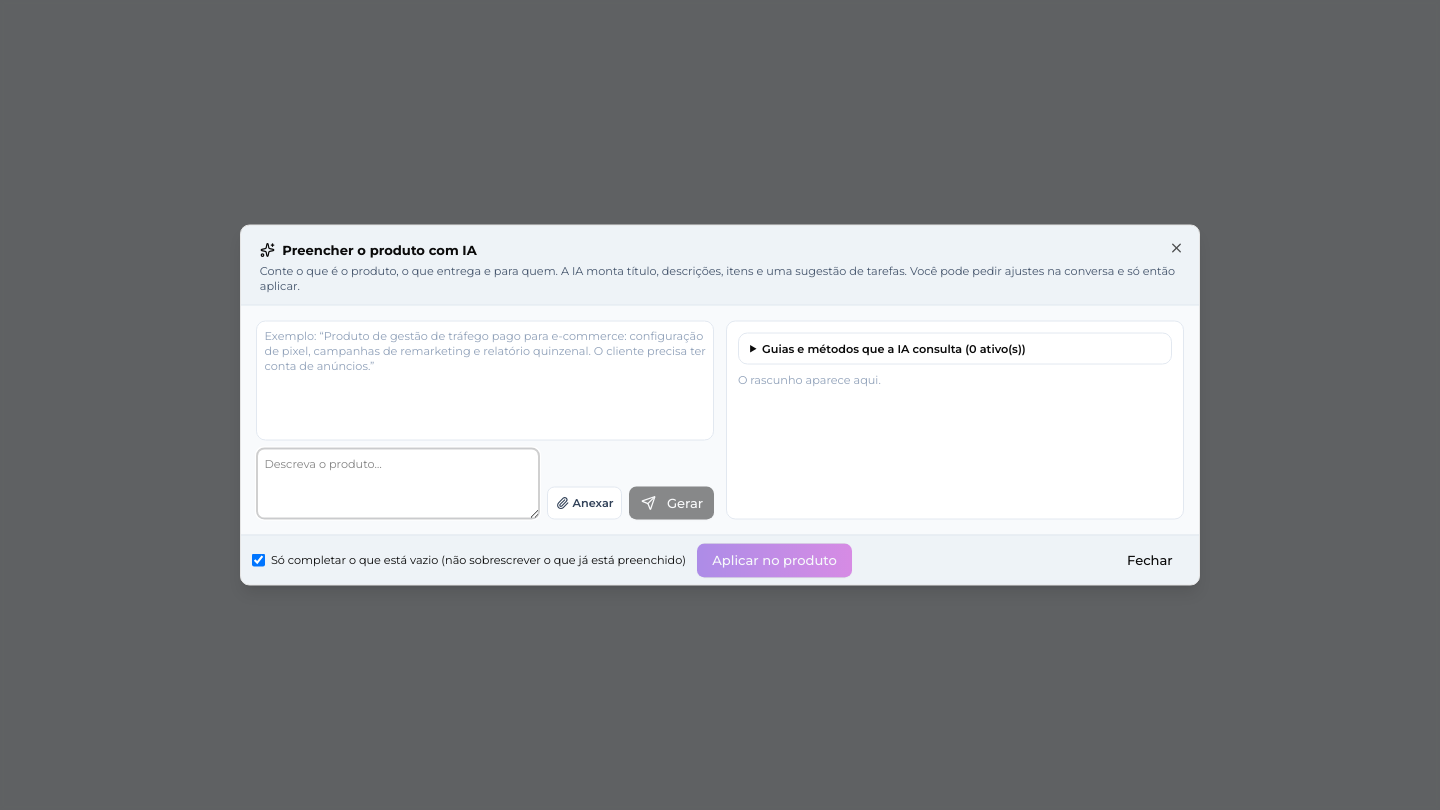
Test: IA que preenche o produto (P-8) › conversa: gera o rascunho, mostra a prévia, manda o rascunho atual no ajuste e só aplica ao clicar
Check: the button with test id "apply-draft" is disabled, box top-left (697, 543), bottom-right (852, 577)
Type "Produto de social media com relatório" into the text box named "Mensagem para a IA" at (398,484), box top-left (256, 448), bottom-right (540, 520)
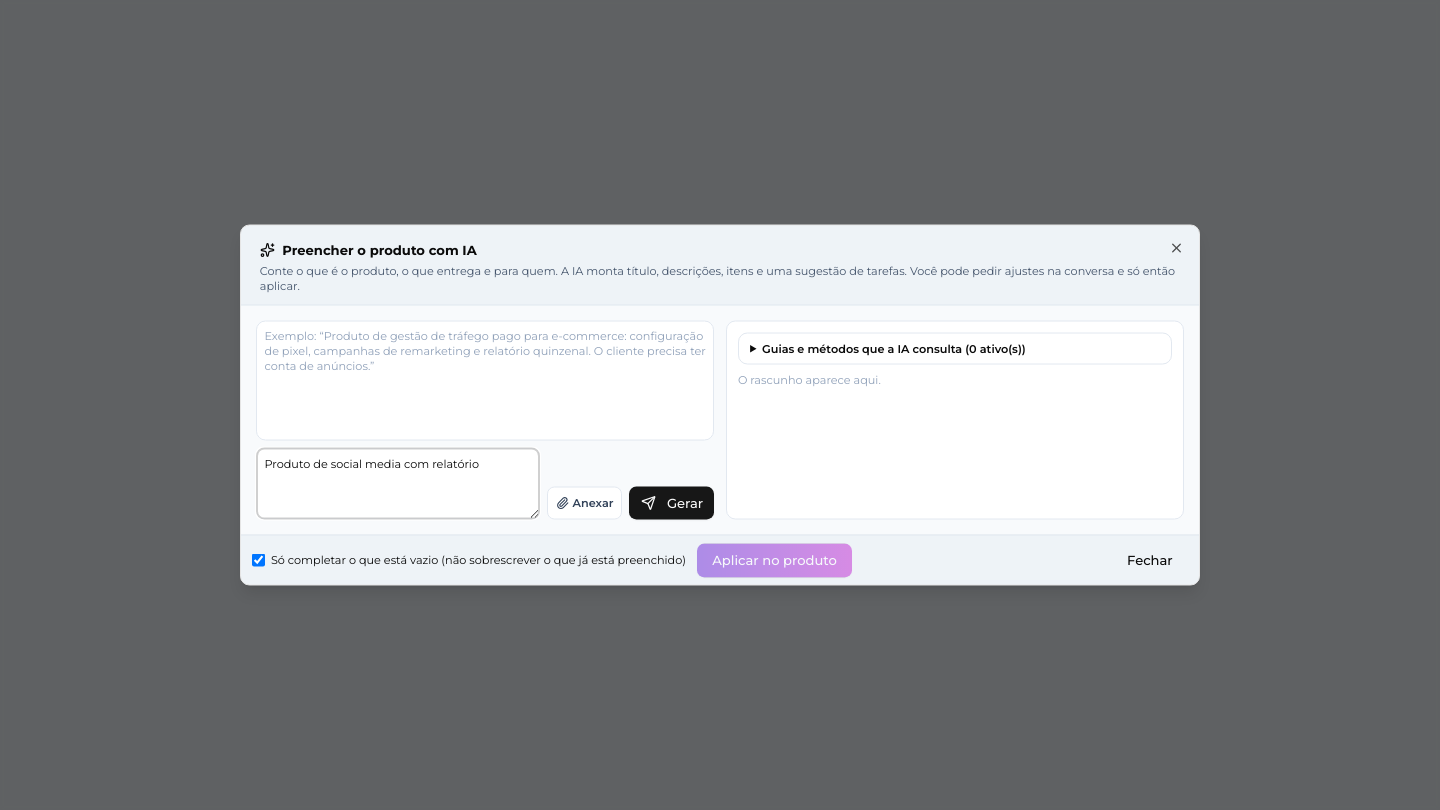
Click the button "Gerar" at (672,503), box top-left (630, 486), bottom-right (714, 520)
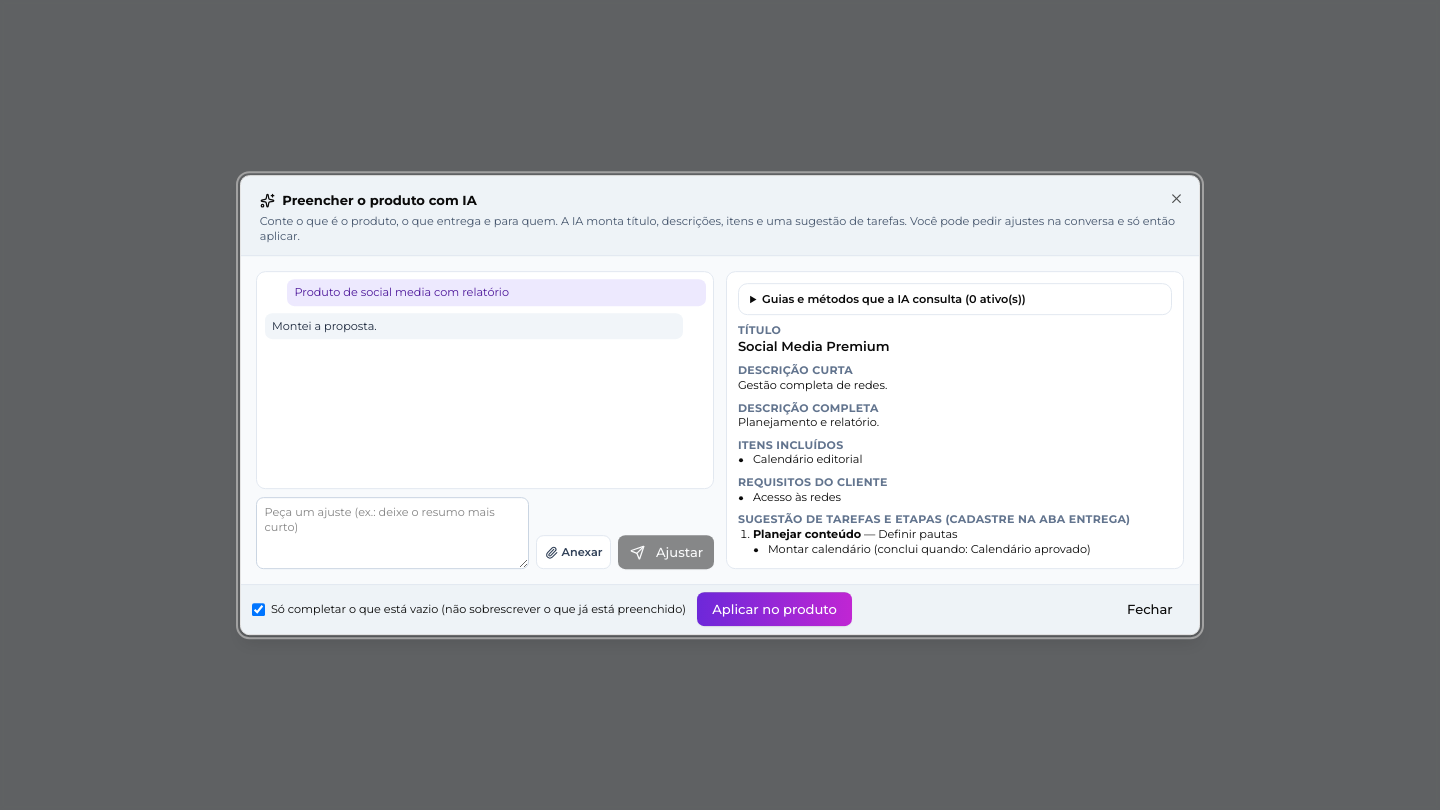
Check: the list item "Montei a proposta." is shown, box top-left (264, 313), bottom-right (683, 340)
Check: the element with test id "draft-preview" shows "Social Media Premium", box top-left (738, 338), bottom-right (890, 354)
Check: the element with test id "draft-preview" shows "Montar calendário", box top-left (768, 542), bottom-right (871, 556)
Type "Deixe o resumo mais curto" into the text box named "Mensagem para a IA" at (392,533), box top-left (256, 497), bottom-right (529, 569)
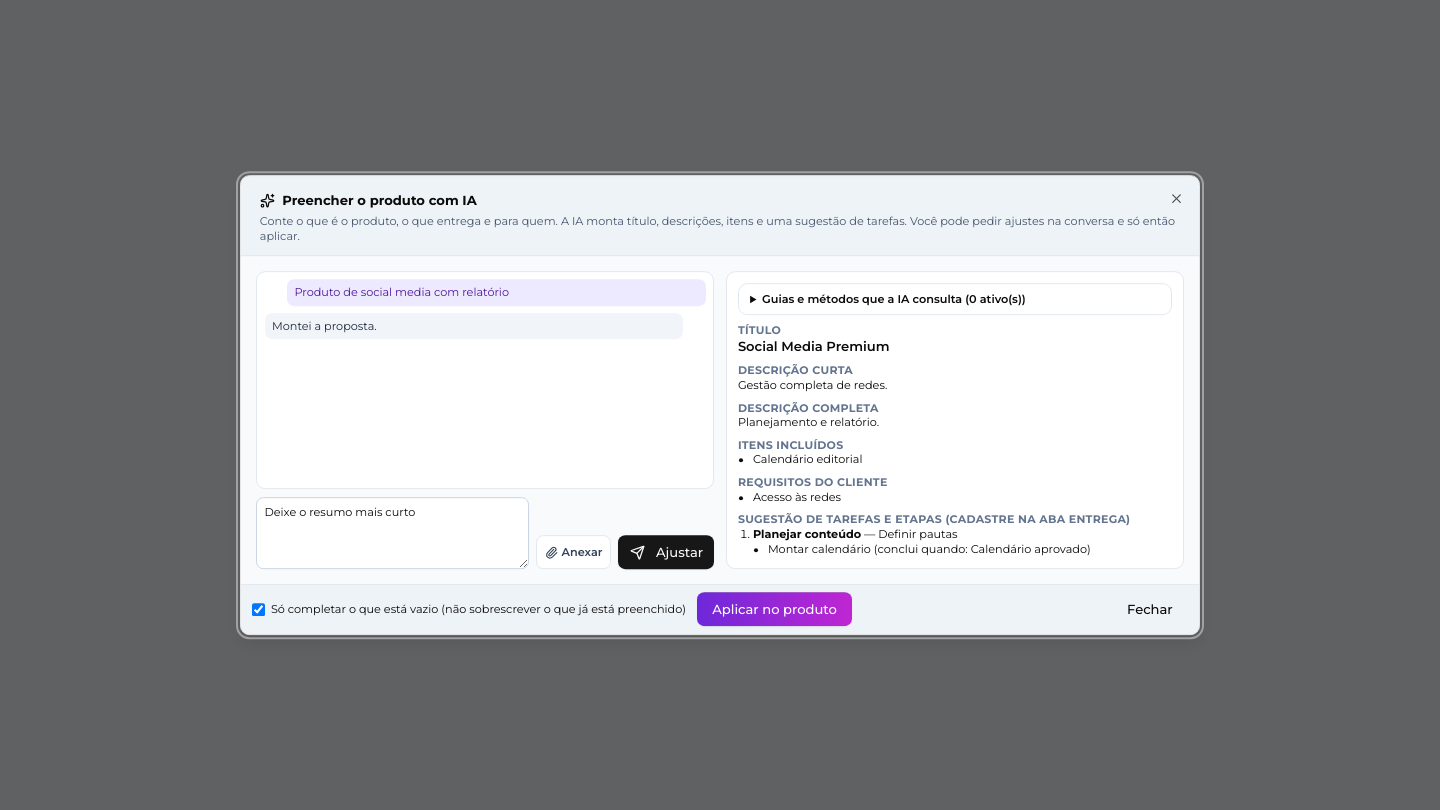
Click the button "Ajustar" at (666,552), box top-left (618, 535), bottom-right (714, 569)
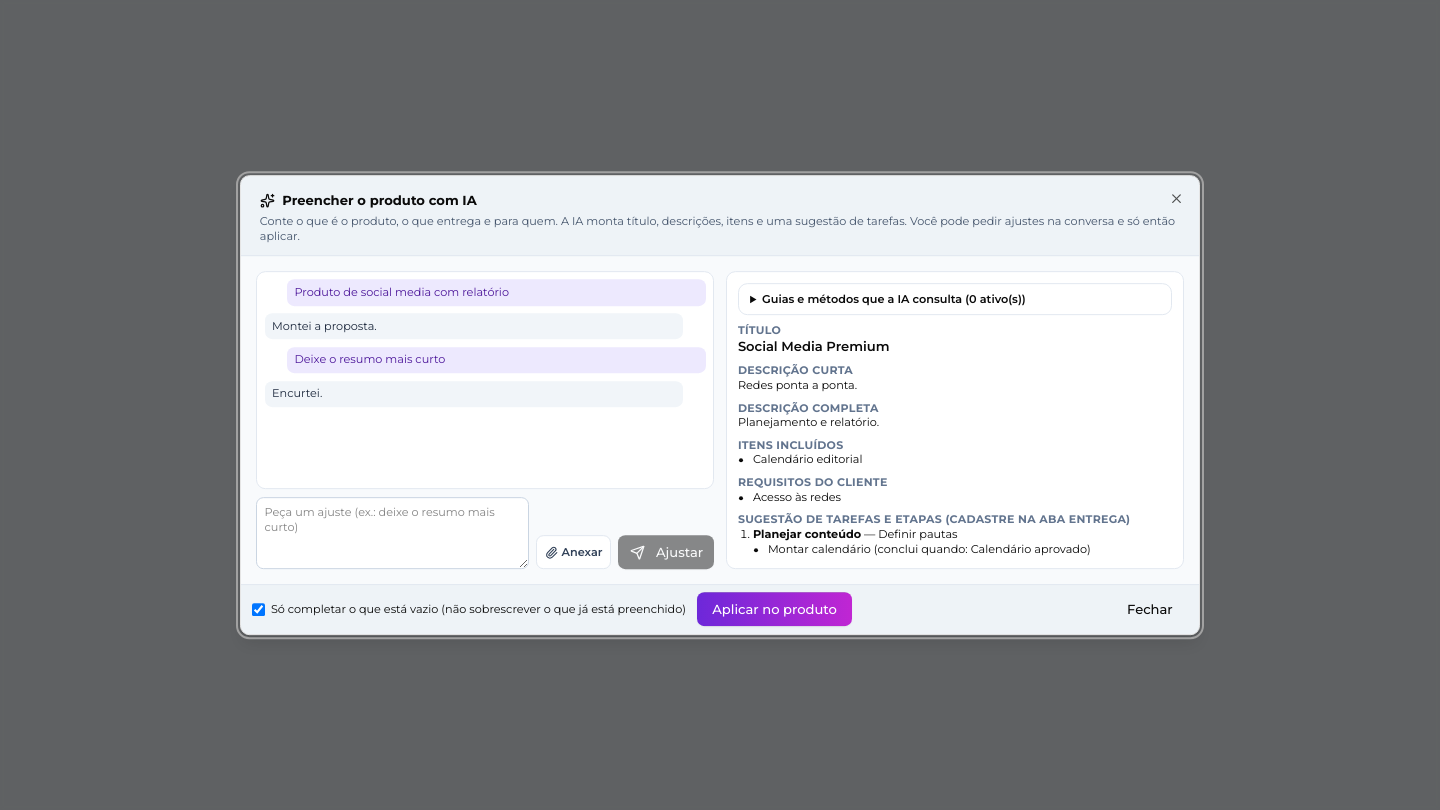
Check: the text "Social Media Premium" is shown, box top-left (738, 338), bottom-right (890, 354)
Check: the list item "Encurtei." is shown, box top-left (264, 381), bottom-right (683, 407)
Click the button with test id "apply-draft" at (775,610), box top-left (697, 593), bottom-right (852, 626)
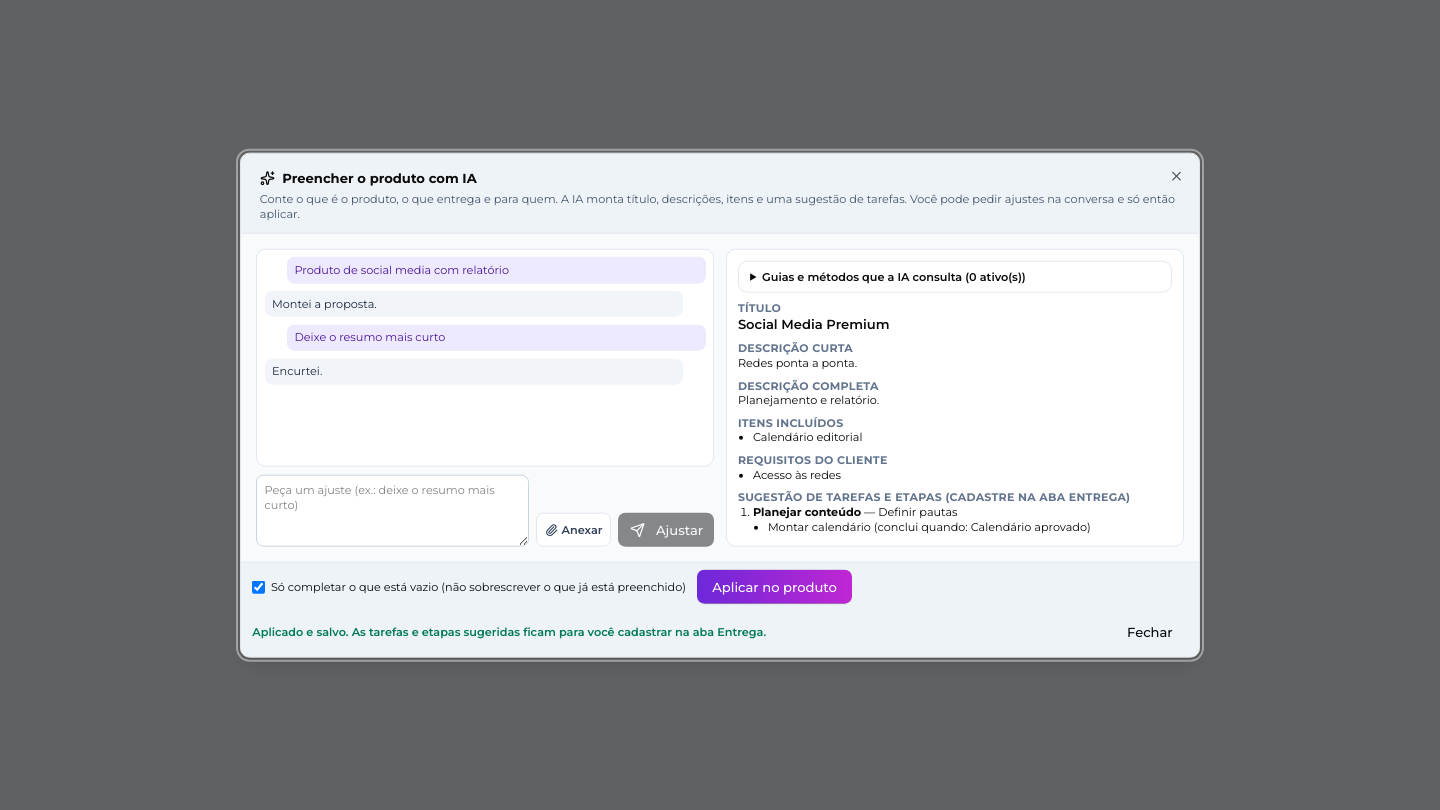
Check: the text "Redes ponta a ponta." is shown, box top-left (738, 356), bottom-right (857, 370)
Check: the text "Aplicado e salvo" is shown, box top-left (252, 624), bottom-right (766, 638)
